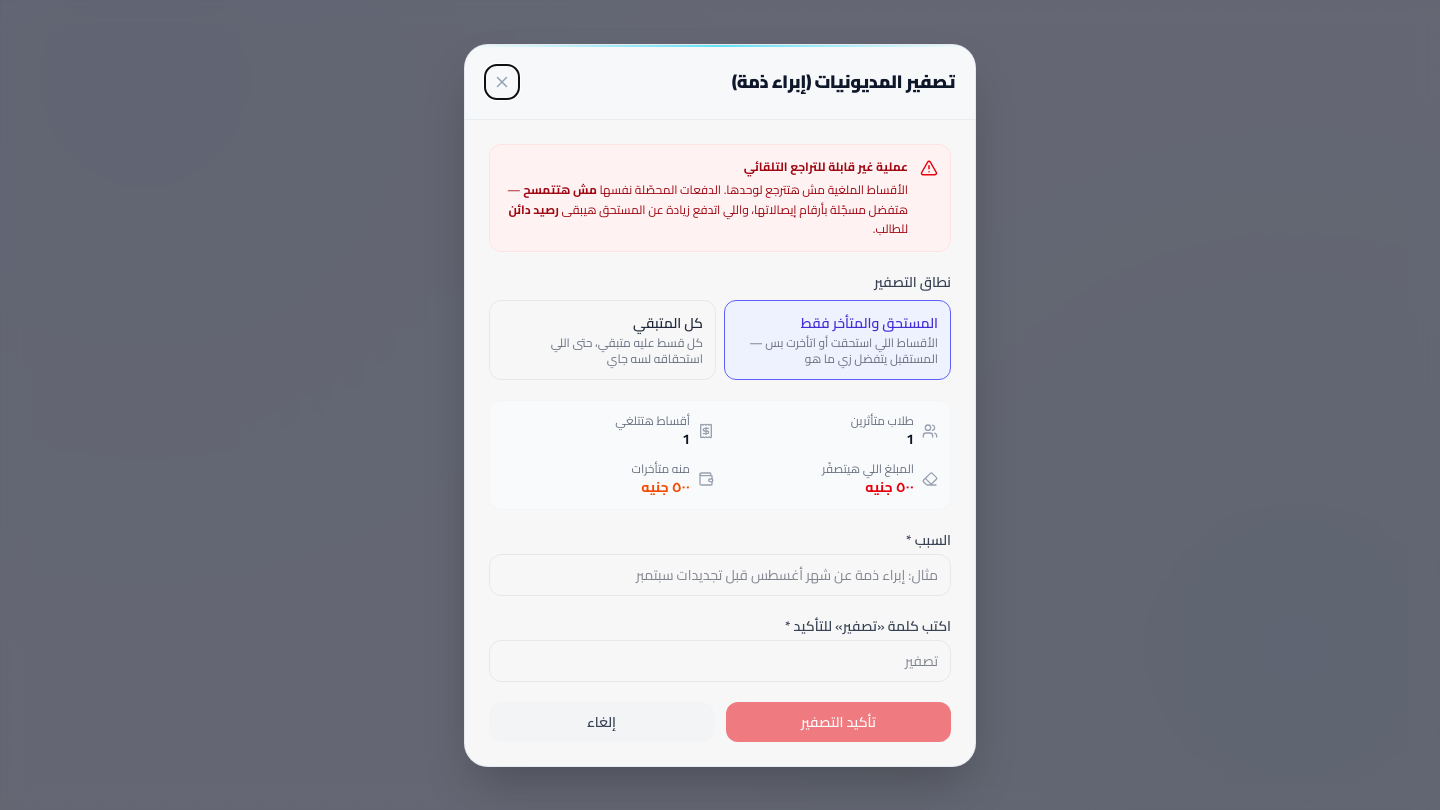
Test case: نافذة تصفير المديونيات › التأكيد متعطل من غير سبب ومن غير كلمة «تصفير»
Expected: the button "تأكيد التصفير" is disabled, [726,702,951,742]
# السبب لوحده مش كافي
Type "إبراء ذمة شهر أغسطس" into the field with placeholder "مثال: إبراء ذمة عن شهر أغسطس قبل تجديدات سبتمبر". click: (720, 574)
box: [489,554,951,596]
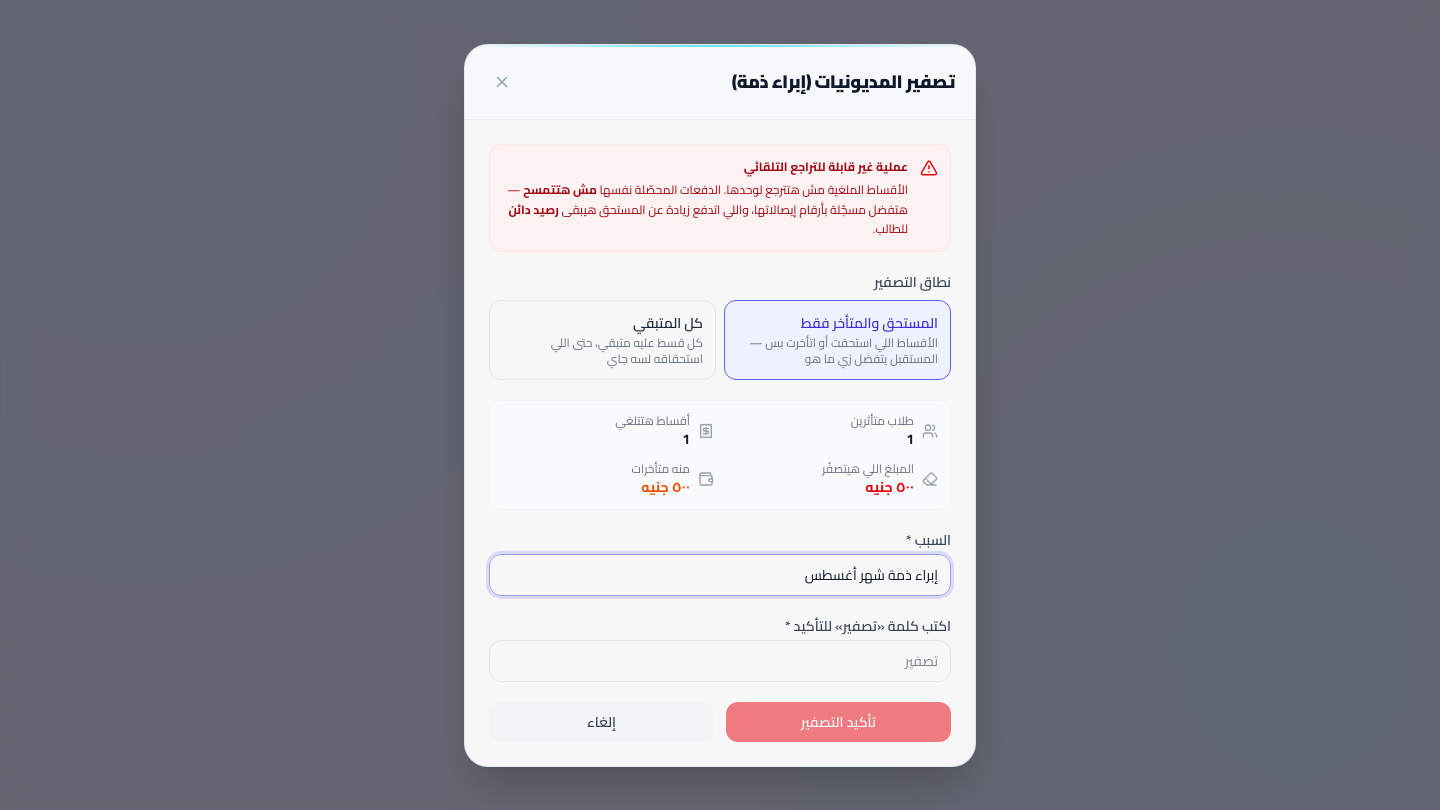
Expected: the button "تأكيد التصفير" is disabled, [726,702,951,742]
# كلمة تانية مش كافية
Type "تصفير المديونيات" into the field with placeholder "تصفير". click: (720, 660)
box: [489,640,951,682]
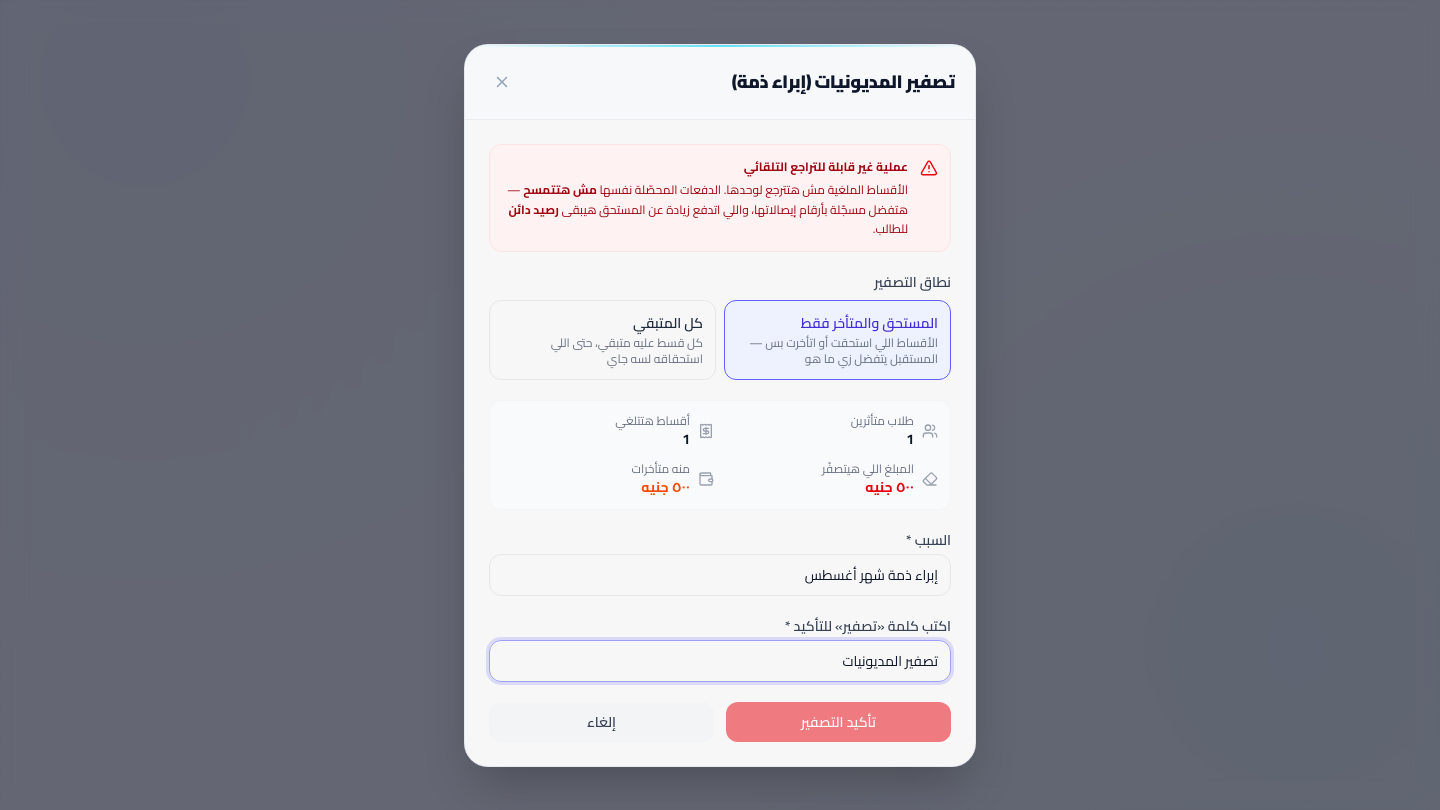
Expected: the button "تأكيد التصفير" is disabled, [726,702,951,742]
# الكلمة المظبوطة بتفعّل الزرار
Replace the text in the field below "اكتب كلمة «" with "تصفير". click: (720, 660)
box: [489,640,951,682]
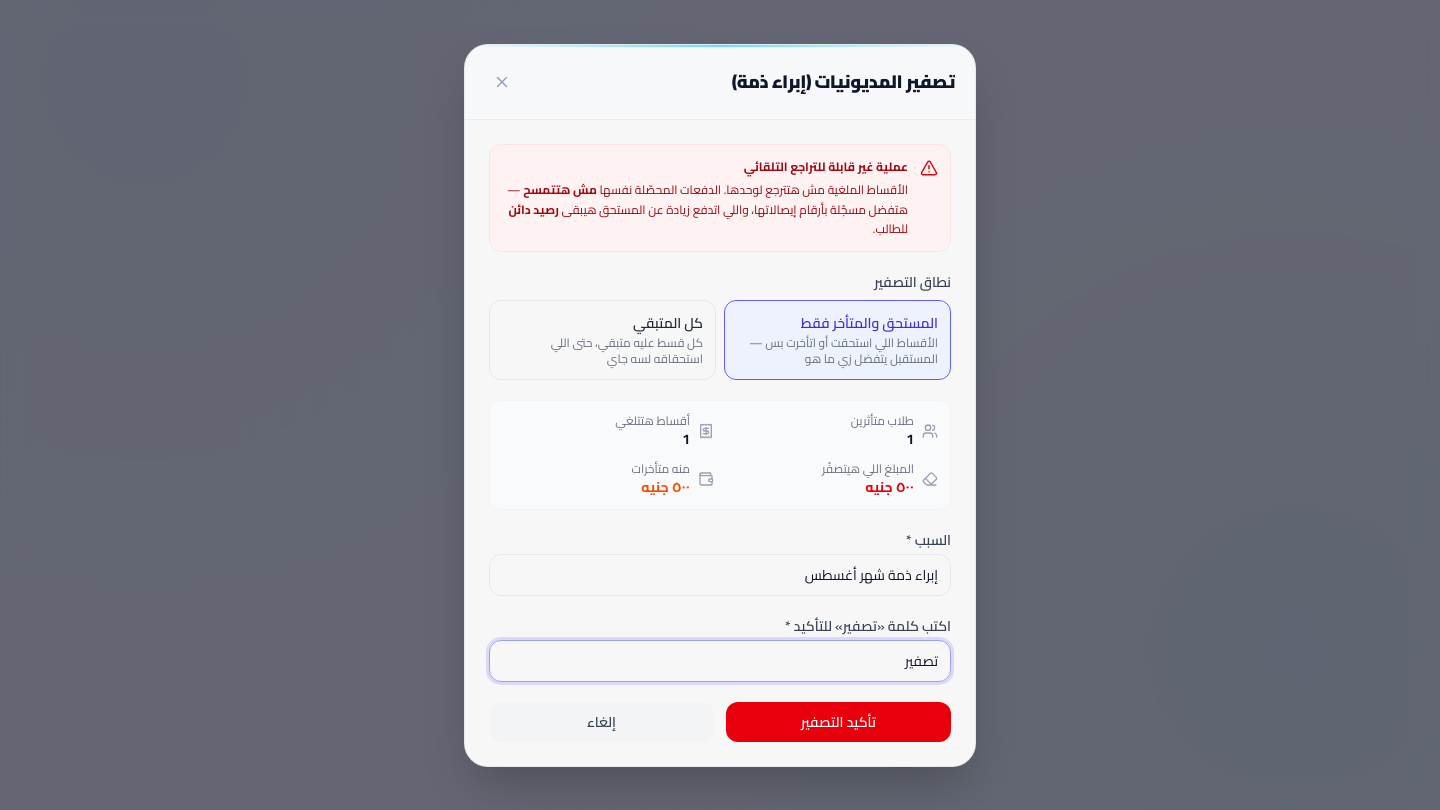
Expected: the button "تأكيد التصفير" is enabled, [726,702,951,742]
